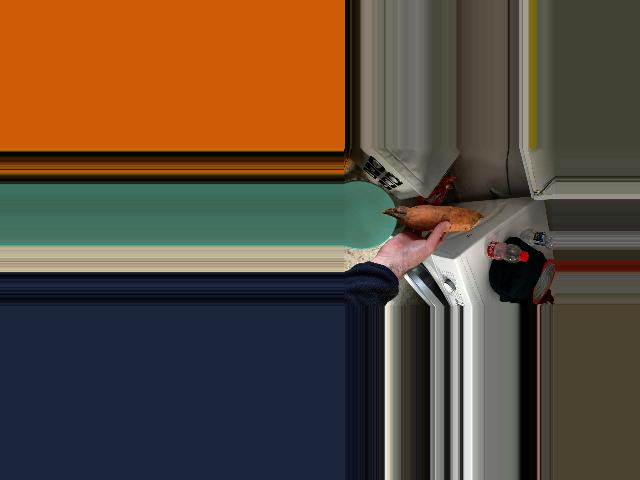sweet_potato: (385, 205, 470, 239)
